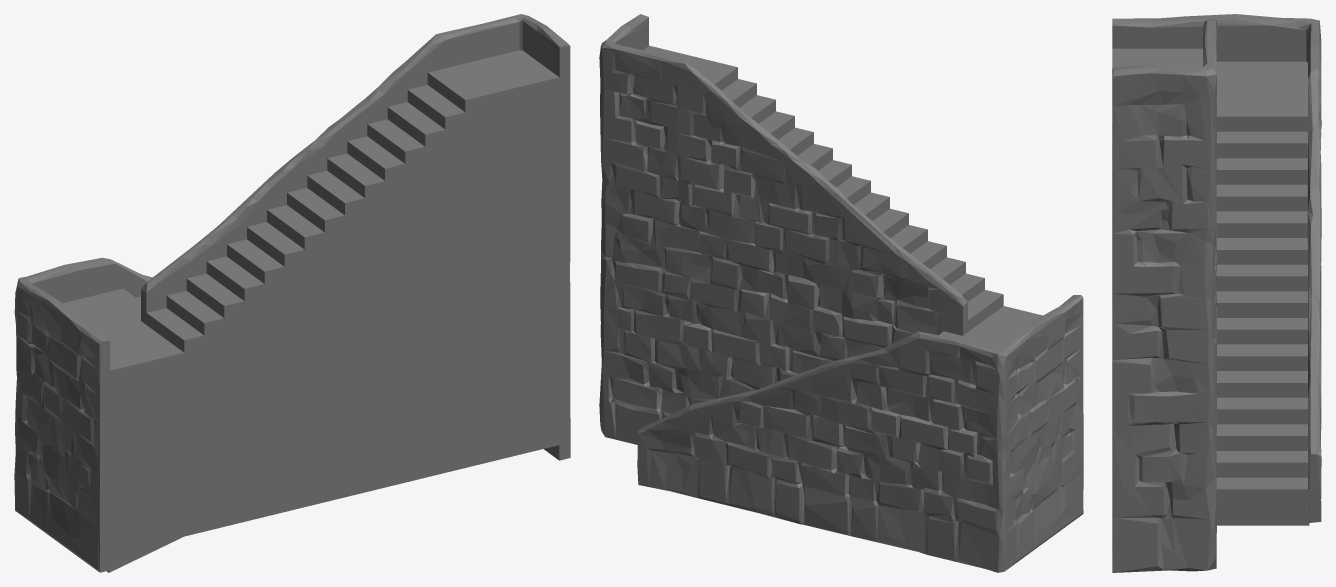
Rendered from castle_battlement_stairs_c1.FBX.
The picture shows the model from 3 angles, left to right: view 1: azimuth 30°, elevation 25°; view 2: azimuth 150°, elevation 25°; view 3: azimuth 270°, elevation 25°; orthographic projection. The views are drawn at different scales.
Visible parts, largest first — view 1: castle_battlement_stairs_c1; view 2: castle_battlement_stairs_c1; view 3: castle_battlement_stairs_c1.
Part boxes in pixels (bbox=[...]): castle_battlement_stairs_c1: bbox=[14, 14, 570, 572]; castle_battlement_stairs_c1: bbox=[599, 14, 1083, 572]; castle_battlement_stairs_c1: bbox=[1112, 14, 1321, 572].
Size of the model in its own units: 9.4 by 7.98 by 2.99.
